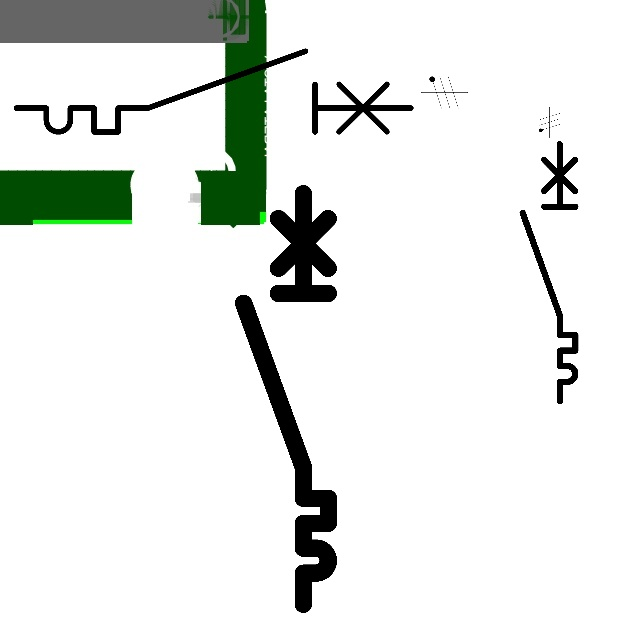interruptor_termomagnetico: (233, 183, 339, 615), (6, 41, 421, 142), (516, 137, 582, 407)
